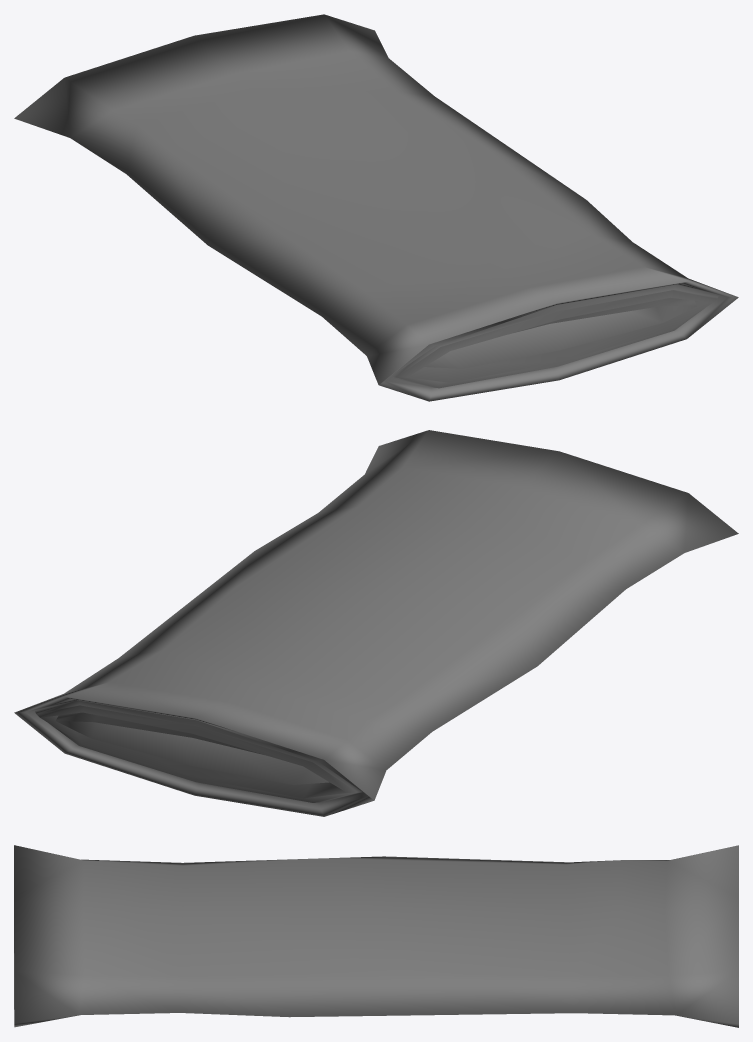
The model's file is GAMEJAMHERO - Prop(New Paper Roll).fbx.
3 views of the same model, one above another, from view 1: azimuth 30°, elevation 25°; view 2: azimuth 150°, elevation 25°; view 3: azimuth 270°, elevation 25° (orthographic).
Parts seen in each view (by area): view 1: Cube.024; view 2: Cube.024; view 3: Cube.024.
Part boxes in pixels (x1,y1,x2,y2): Cube.024: (14, 14, 738, 401); Cube.024: (14, 430, 738, 816); Cube.024: (14, 845, 738, 1027).
Bounding box in the file's own units: 38.03 × 7.83 × 66.57.
Materials: 1 (1 with a texture image).
